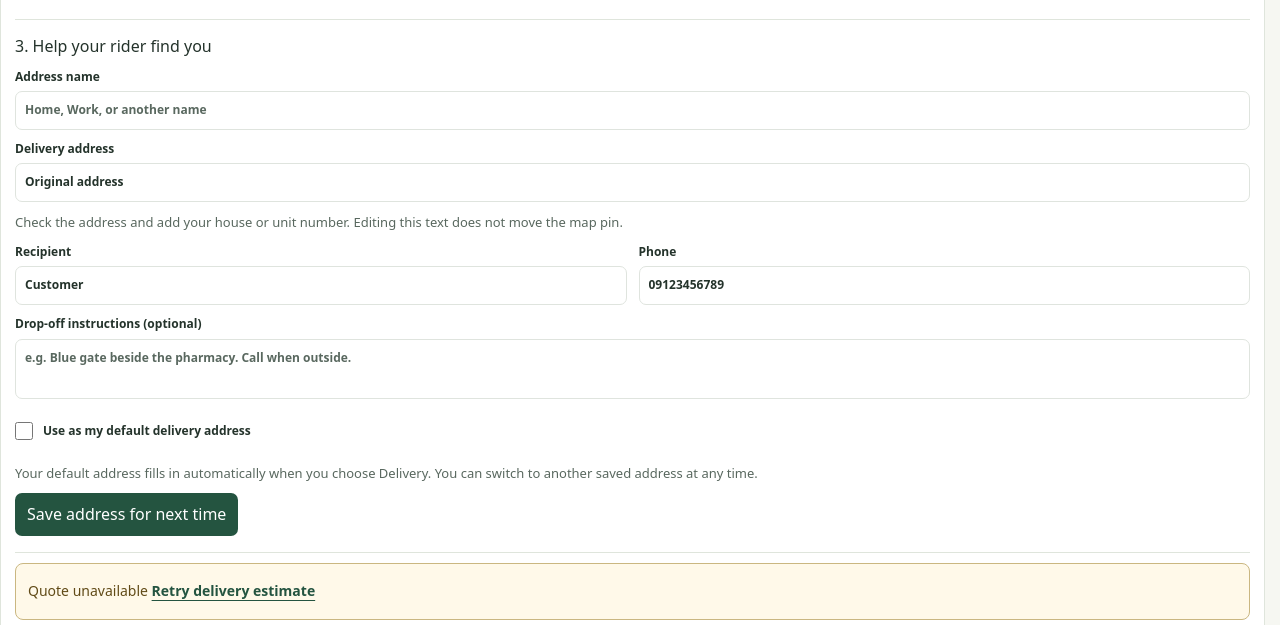
Test: retries a failed quote without losing address details
(page scrolled)
Expected: the message "Quote unavailable Retry delivery estimate" is shown, [15, 563, 1250, 620]
Click the button "Retry delivery estimate".
click(233, 591)  # box [152, 576, 315, 606]
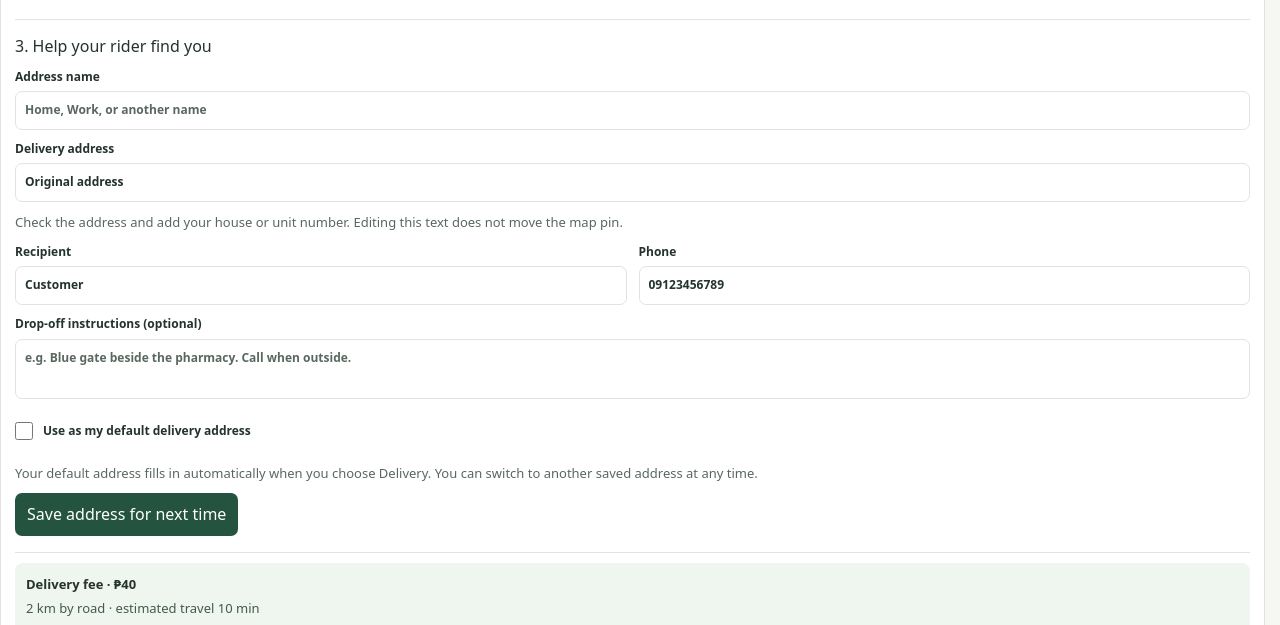
Expected: the field labelled "Recipient" holds "Customer", [15, 266, 626, 305]
Now the text "Delivery fee · ₱40" is shown, box [26, 575, 136, 593]
